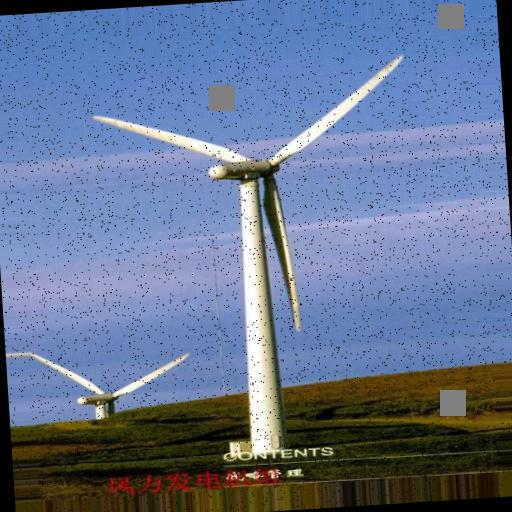wind turbine: (93, 51, 405, 452)
